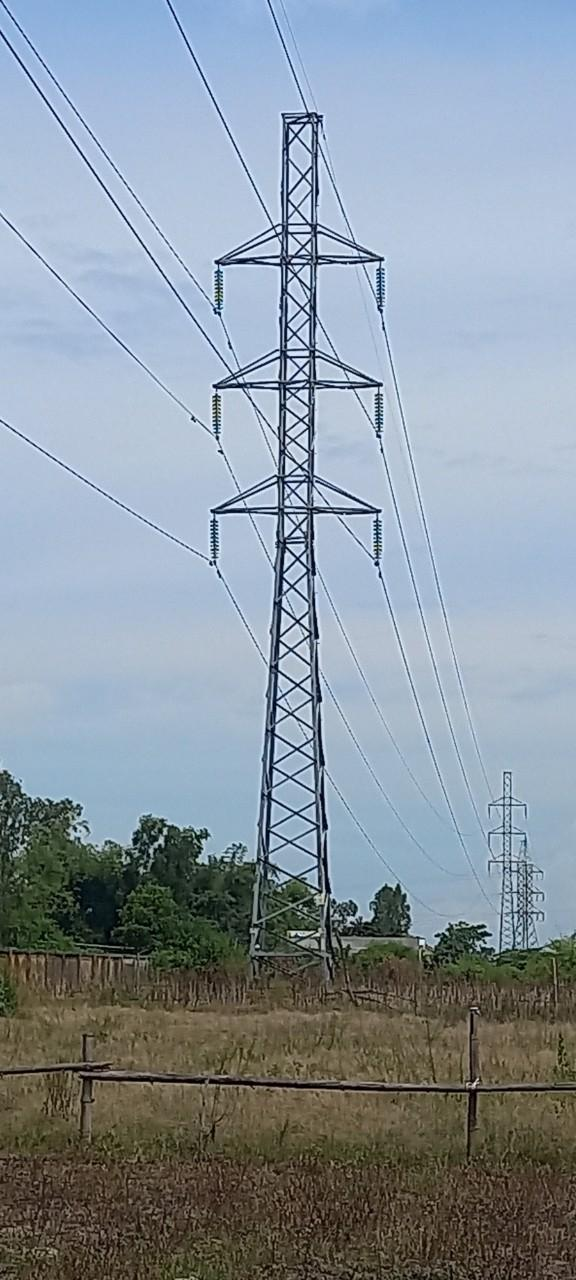power_tower: (206, 96, 378, 1006)
